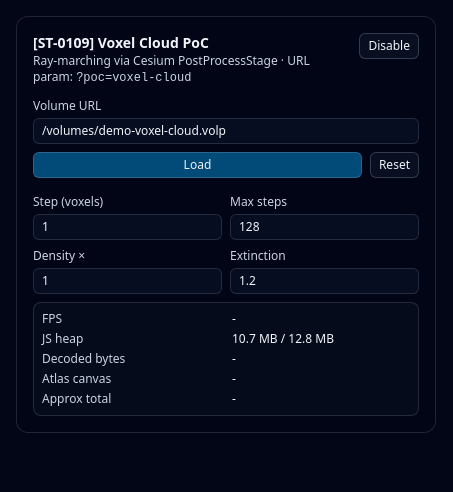
Test: VoxelCloudPocPage › shows an error when loading fails
Expected: the text "[ST-0109] Voxel Cloud PoC" is shown, [33, 33, 209, 52]
Step 1. Click the button "Load" → (197, 165), box [33, 152, 362, 178]
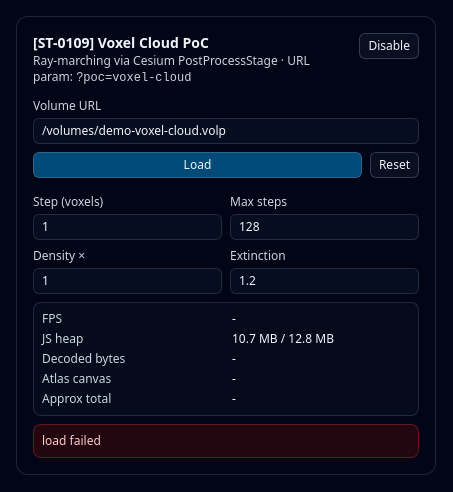
Expected: the text "load failed" is shown, [33, 424, 419, 458]
